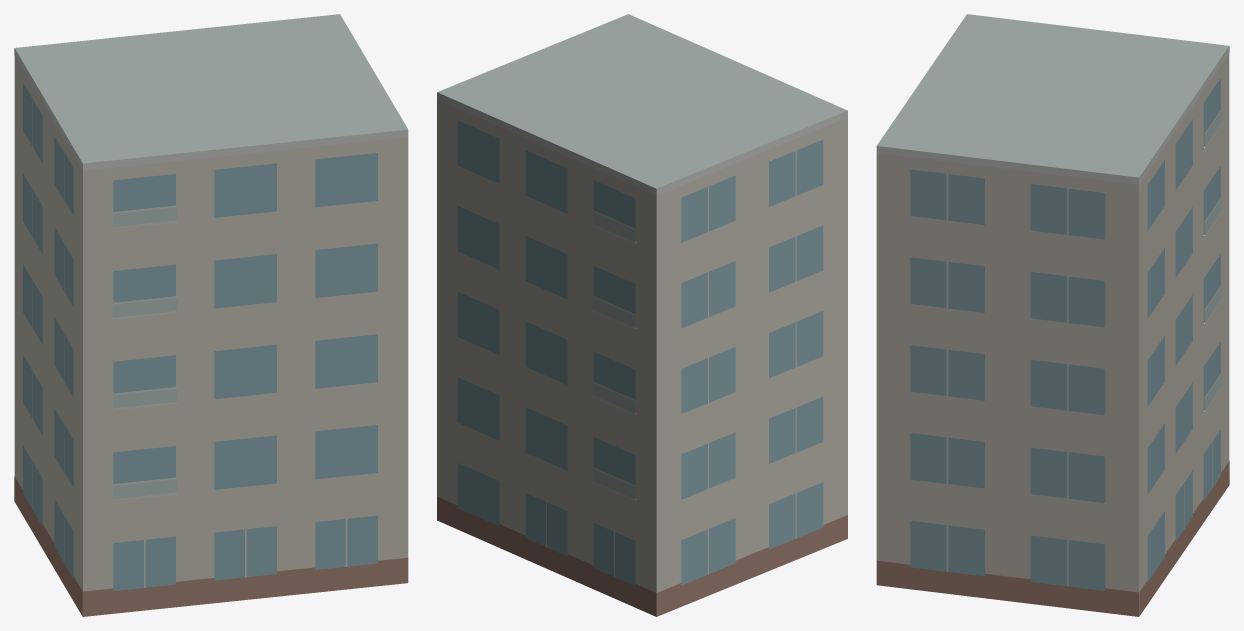
The model's file is survey-upis-32877773.glb.
The picture shows the model from 3 angles, left to right: view 1: azimuth 30°, elevation 25°; view 2: azimuth 150°, elevation 25°; view 3: azimuth 270°, elevation 25°; orthographic projection. The views are drawn at different scales.
Visible parts, largest first — view 1: survey-upis-32877773.tmp; view 2: survey-upis-32877773.tmp; view 3: survey-upis-32877773.tmp.
Boxes of the visible parts, x1=… form: survey-upis-32877773.tmp: x1=14, y1=14, x2=408, y2=616; survey-upis-32877773.tmp: x1=437, y1=14, x2=847, y2=616; survey-upis-32877773.tmp: x1=876, y1=14, x2=1229, y2=616.
Bounding box in the file's own units: 11.95 × 14.95 × 10.89.
